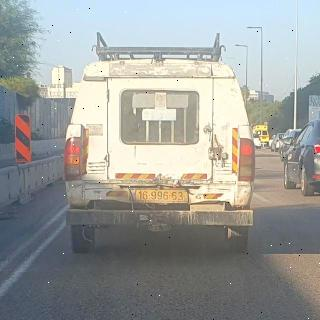LicensePlate: (136, 190, 186, 201)
